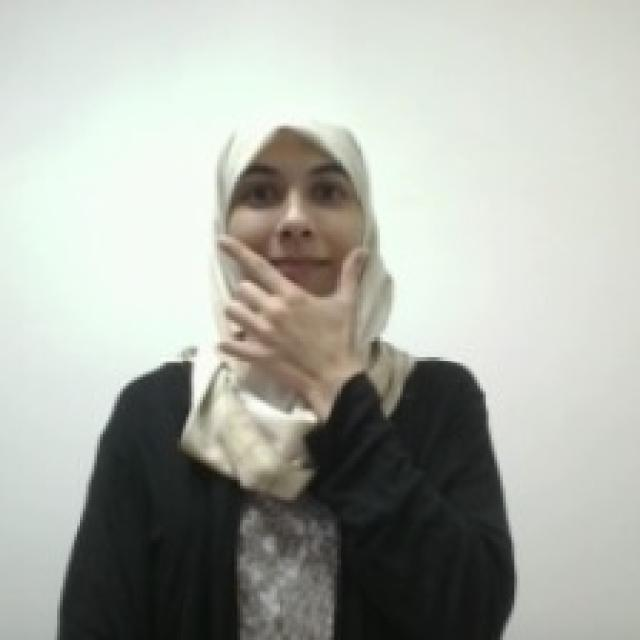smile: (210, 224, 374, 361)
